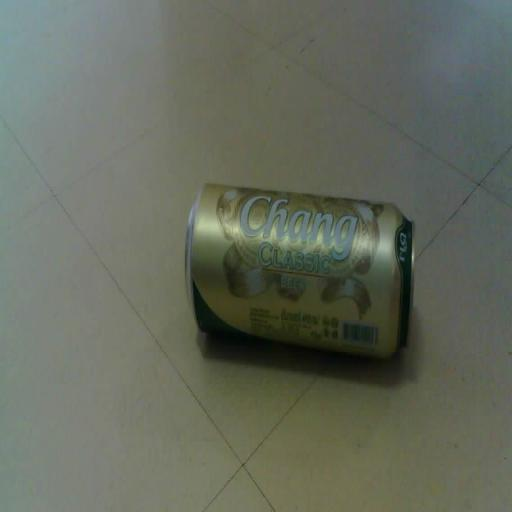canned: (166, 164, 429, 388)
